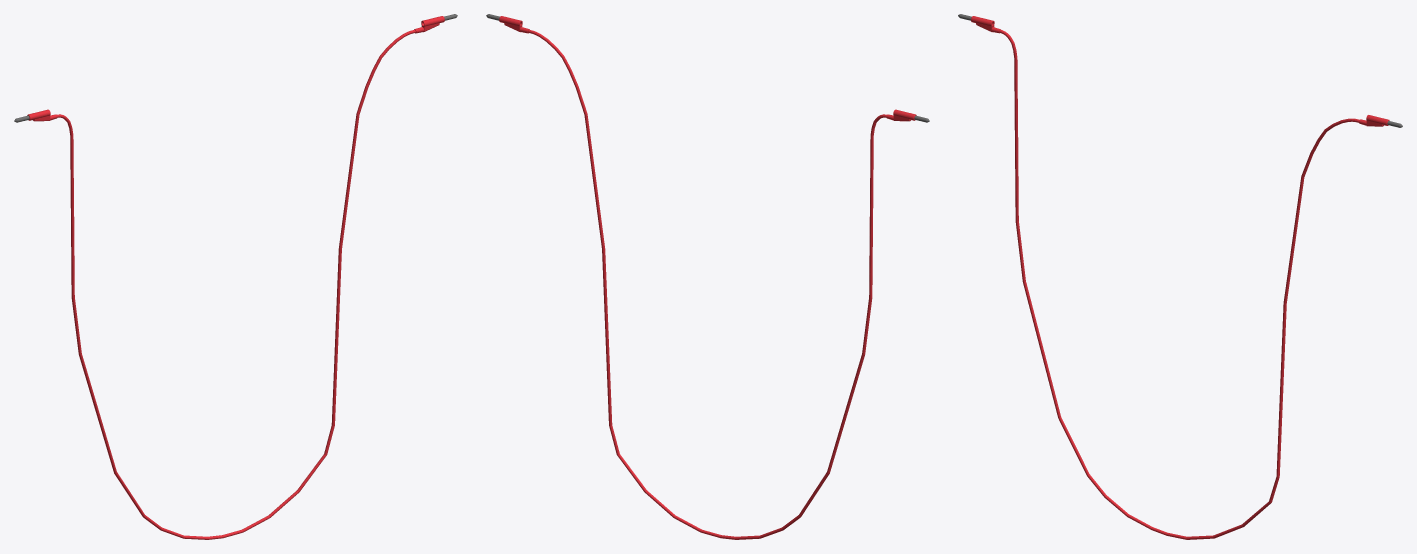
Rendered from PlusKabel.fbx.
3 renders of one model, left to right at view 1: azimuth 30°, elevation 25°; view 2: azimuth 150°, elevation 25°; view 3: azimuth 330°, elevation 25°, orthographic.
Visible parts, largest first — view 1: Cylinder.002; view 2: Cylinder.002; view 3: Cylinder.002.
Boxes of the visible parts, x1,y1,x2,y2 form: Cylinder.002: (50,27,423,539); Cylinder.002: (520,27,893,539); Cylinder.002: (991,27,1366,539).
Bounding box in the file's own units: 7828 × 7942 × 99.91.
